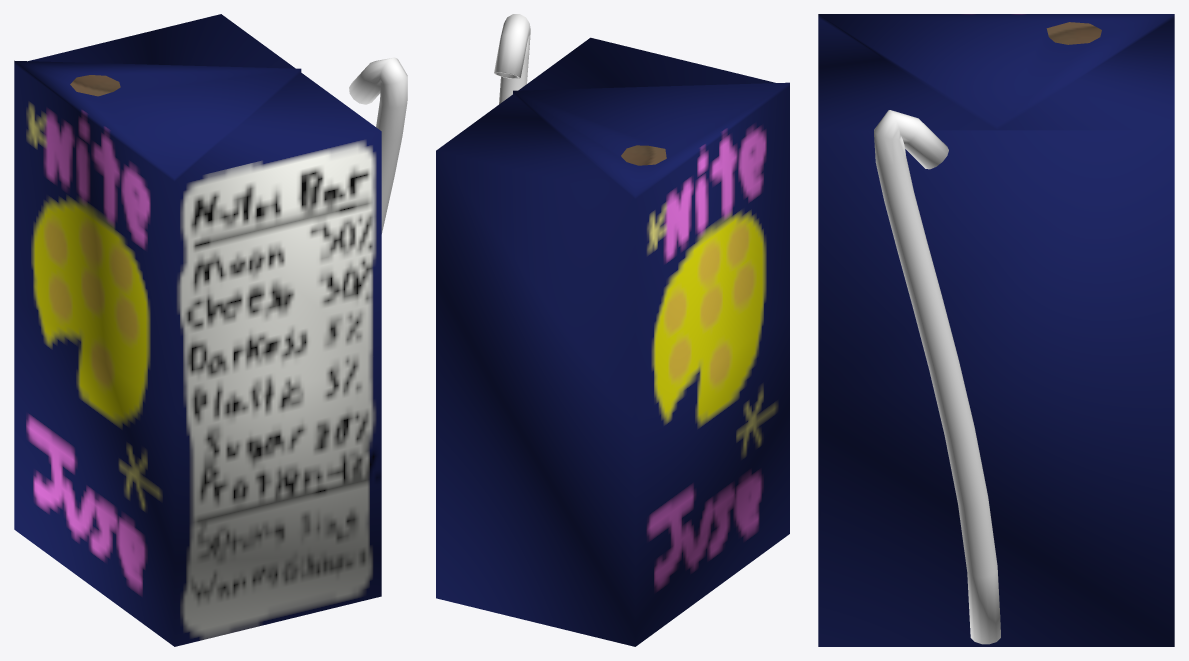
Rendered from item-nite-juse.glb.
The picture shows the model from 3 angles, left to right: view 1: azimuth 30°, elevation 25°; view 2: azimuth 150°, elevation 25°; view 3: azimuth 270°, elevation 25°; orthographic projection. The views are drawn at different scales.
Size of the model in its own units: 0.0768 by 0.14 by 0.0808.
3 materials, 2 textured.
